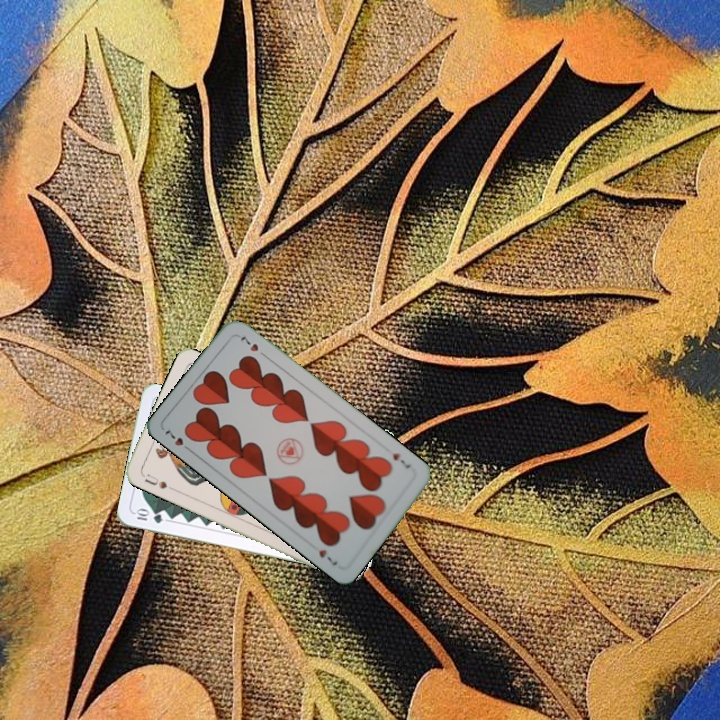G10: (131, 506, 166, 526)
H7: (160, 426, 195, 455), (388, 449, 413, 471)
SU: (138, 470, 176, 493)
